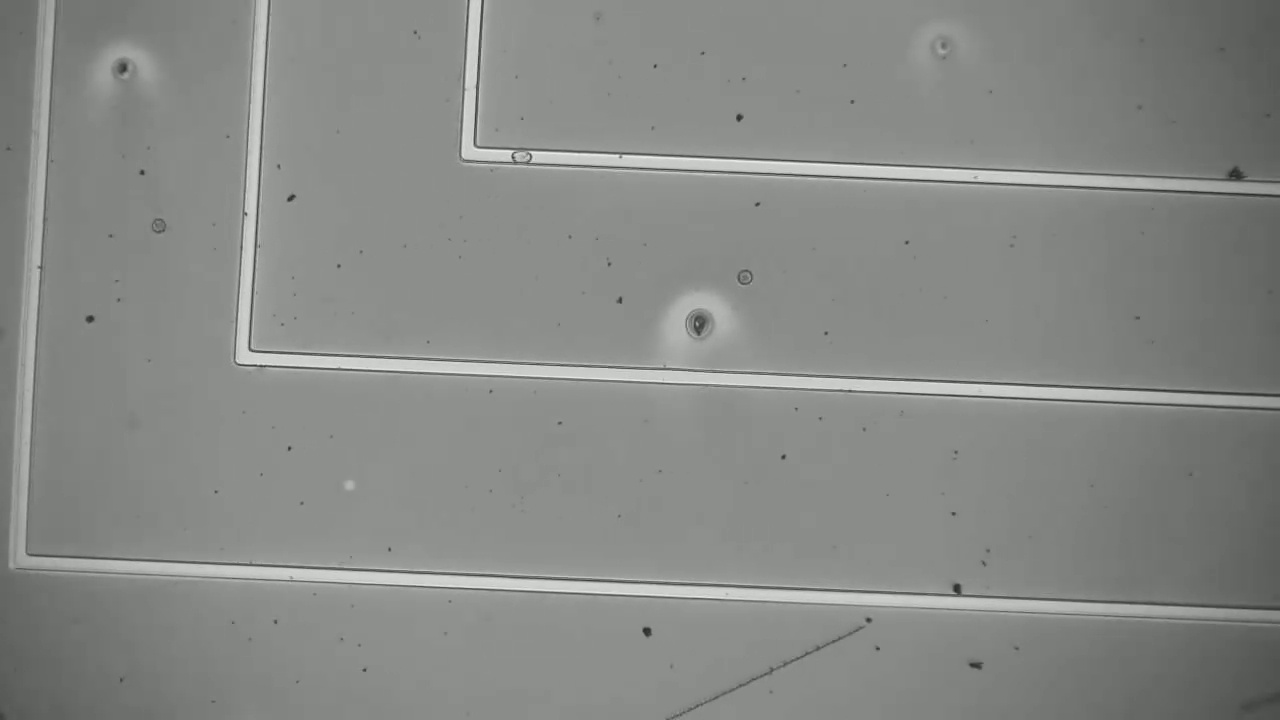scratch: (679, 619, 875, 719)
stains_enbedded: (499, 132, 546, 178)
